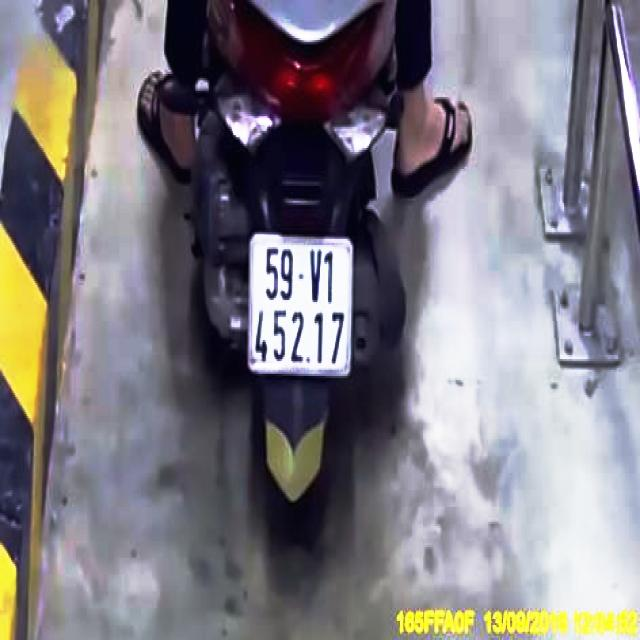license_plate: (250, 237, 352, 369)
